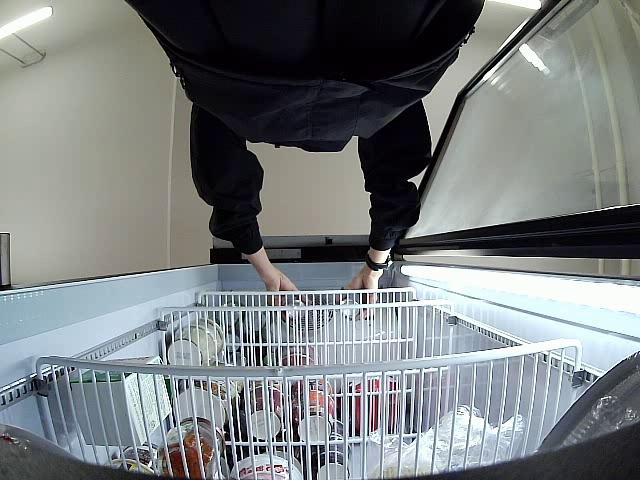00_hand: (266, 271, 315, 315), (345, 274, 378, 311)
15_letsbe: (338, 296, 361, 322), (283, 298, 307, 322)
